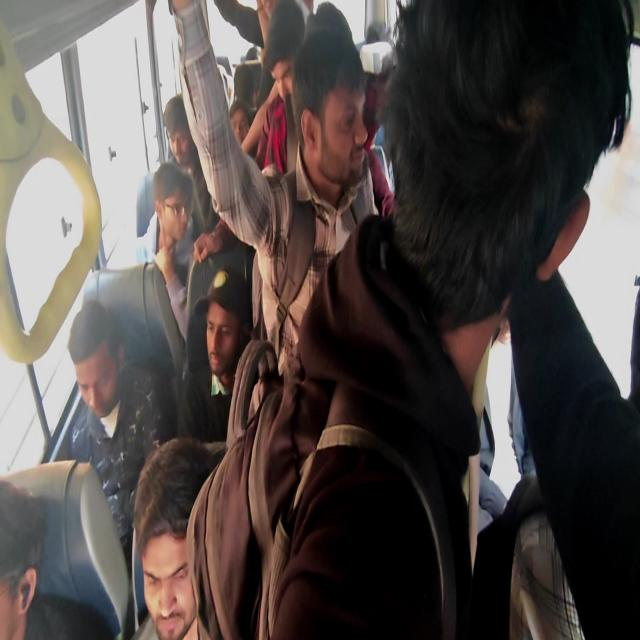person: (385, 0, 593, 359), (130, 443, 308, 640), (67, 303, 158, 473), (0, 462, 77, 635), (294, 39, 374, 195), (198, 282, 268, 408), (260, 0, 320, 121), (142, 166, 207, 257), (163, 100, 214, 161), (228, 89, 262, 166)
